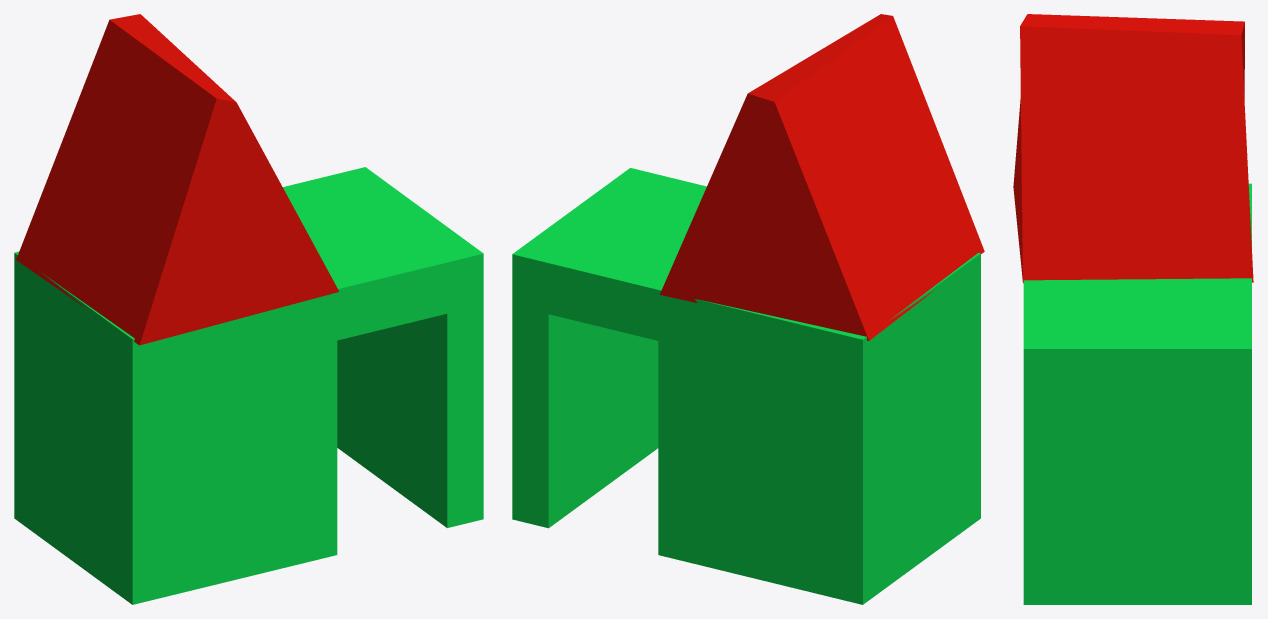
File: house.glb
The picture shows the model from 3 angles, left to right: view 1: azimuth 30°, elevation 25°; view 2: azimuth 150°, elevation 25°; view 3: azimuth 270°, elevation 25°; orthographic projection. The views are drawn at different scales.
Visible parts, largest first — view 1: Cube, Cube.001; view 2: Cube, Cube.001; view 3: Cube, Cube.001.
Part boxes in pixels (x1,y1,x2,y2): Cube: [14, 167, 483, 604]; Cube.001: [16, 14, 339, 345]; Cube: [512, 168, 980, 604]; Cube.001: [659, 14, 984, 340]; Cube: [1023, 183, 1251, 604]; Cube.001: [1013, 14, 1253, 283].
Bounding box in the file's own units: 3.45 × 4.51 × 2.11.
